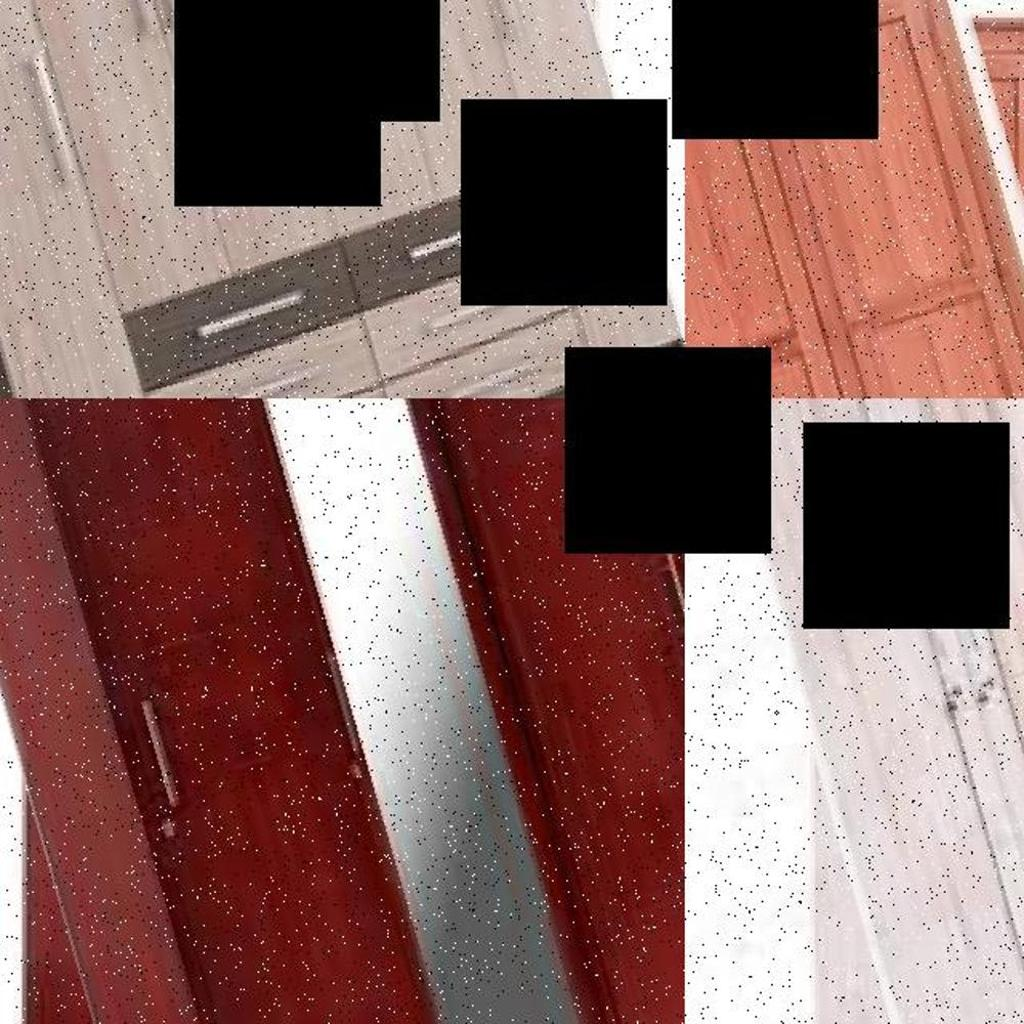cabinet: (0, 398, 685, 1024), (0, 0, 659, 398), (746, 398, 1024, 1024), (685, 0, 1024, 398)
